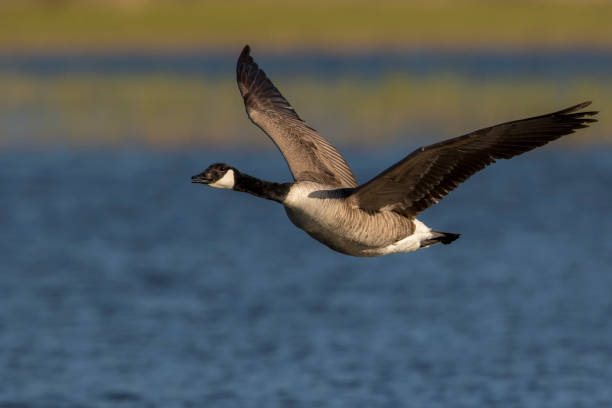goose: (186, 42, 601, 259)
